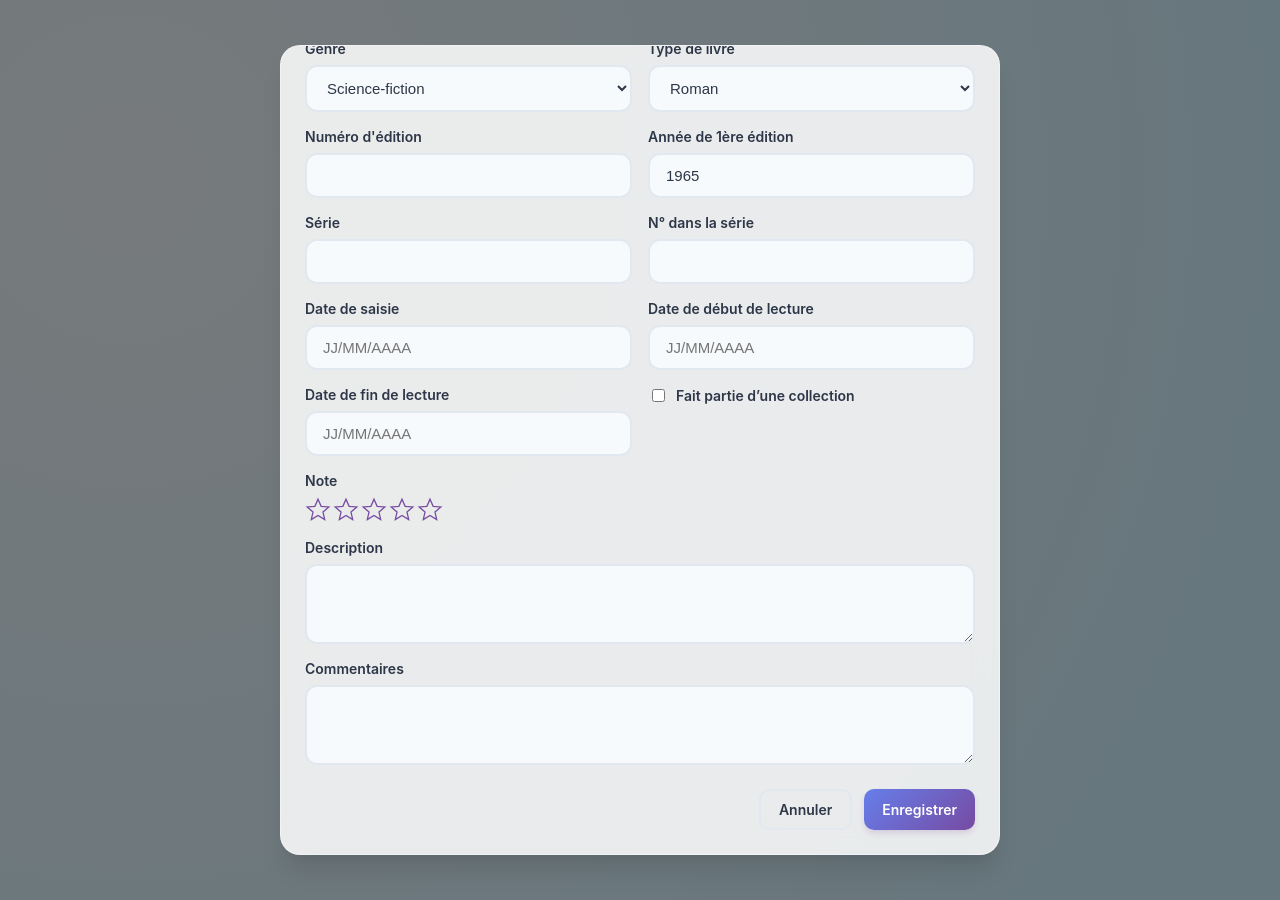
Test: LivreFormModal › shows an error message when saving fails
(page scrolled)
Click the button "Enregistrer" at (920,810), box top-left (864, 789), bottom-right (975, 830)
(page scrolled)
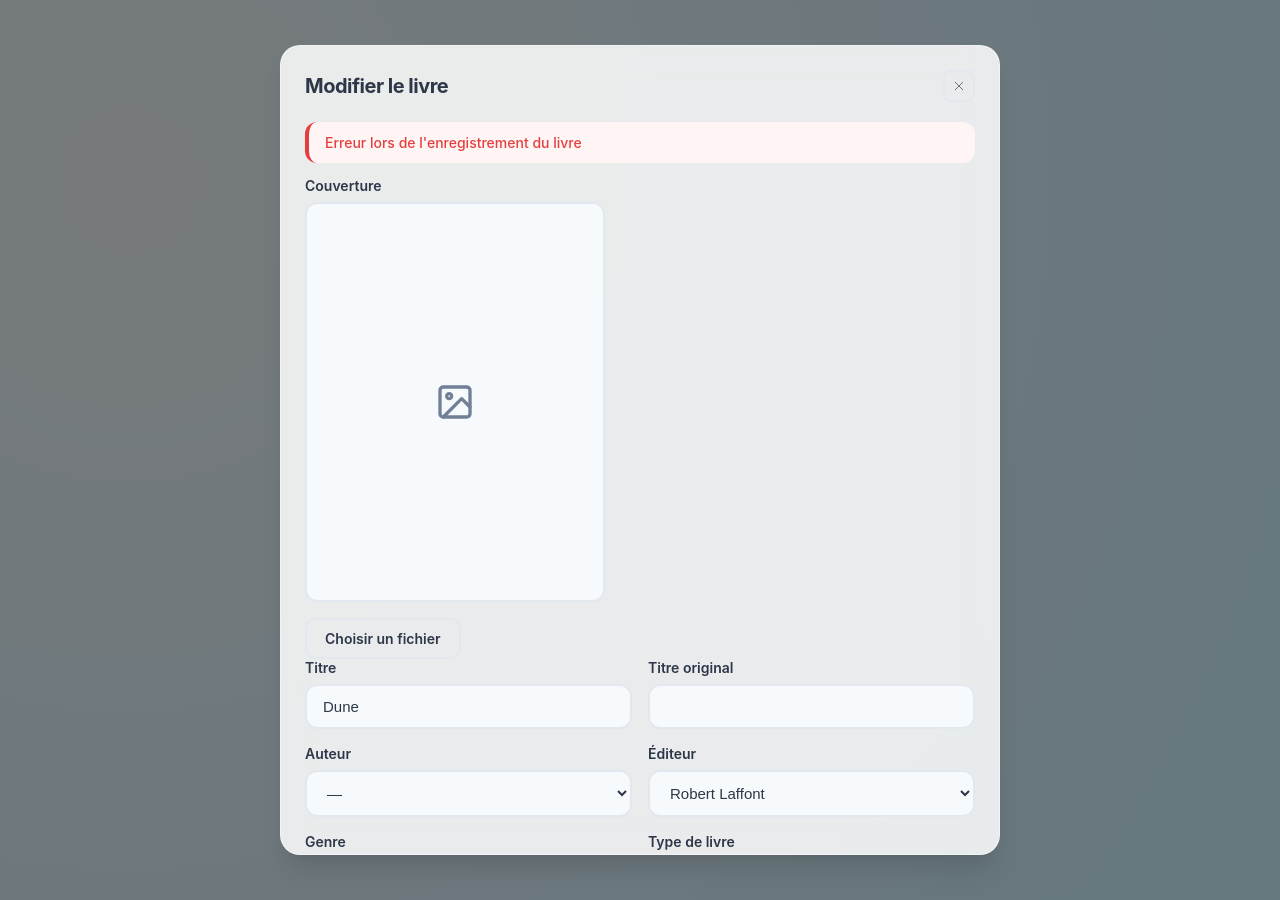
Now the message "Erreur lors de l'enregistrement du livre" is shown, box top-left (305, 122), bottom-right (975, 163)
